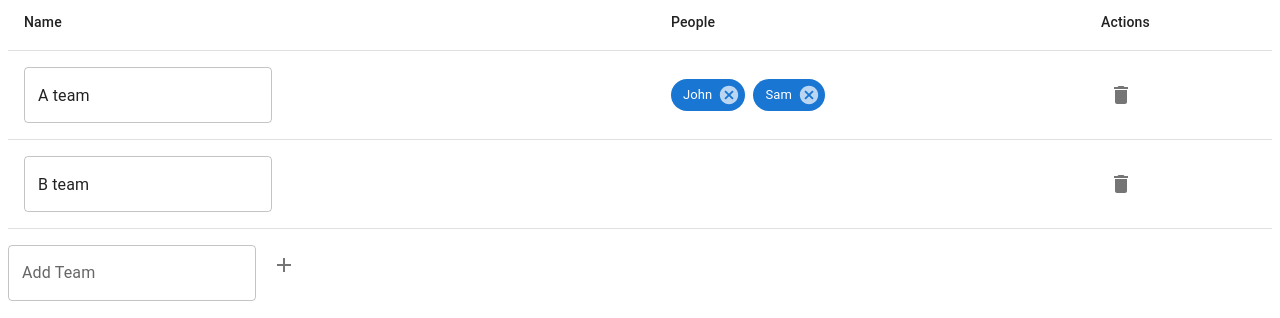
Scenario: TeamsPage › test delete
The width and height of the screenshot is (1280, 318).
Click the 1st button with test id "delete" at (1121, 95), box [1101,75,1141,115]
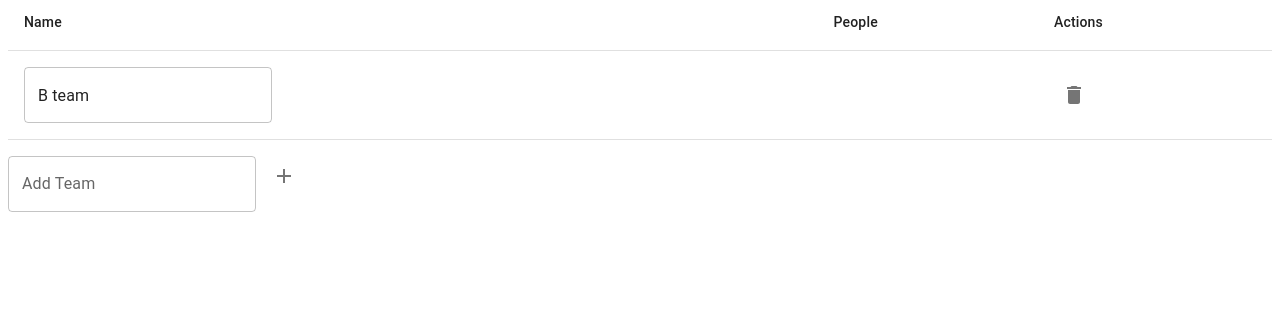
Check: the 1st field holds "B team", box [24,67,272,123]
Check: the number of elements with test id "name" is 1, box [24,67,272,123]
